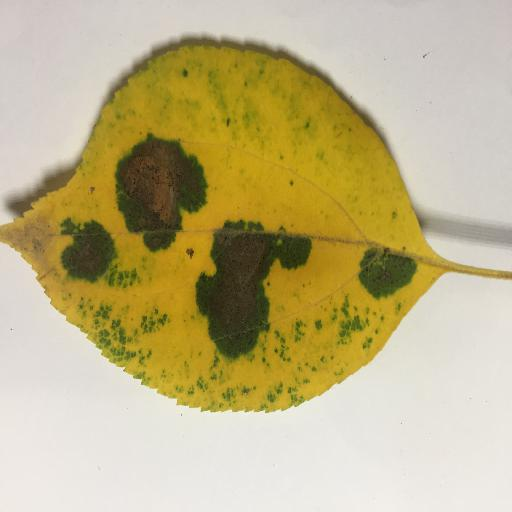Brown_Spot: (200, 228, 285, 348), (110, 141, 196, 227), (55, 231, 112, 284)
